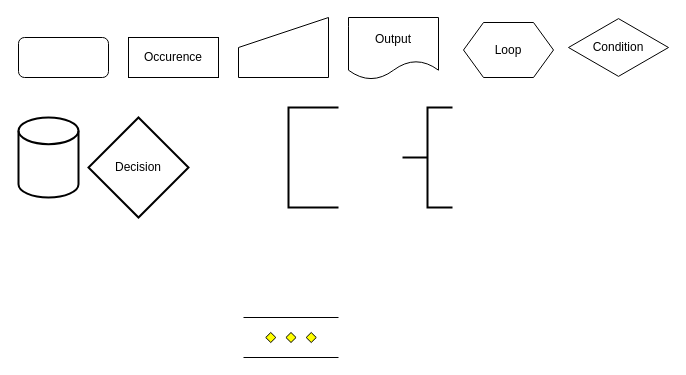
Some shapes in this 686 by 375 pixel diagram are drawn without their labels. The shapes that lost their labels are listed below. From the top down, each one's centre as x and y in pixels, then its label:
At point (63, 57): "Start".
At point (283, 47): "Input".
At point (48, 157): "Database".
